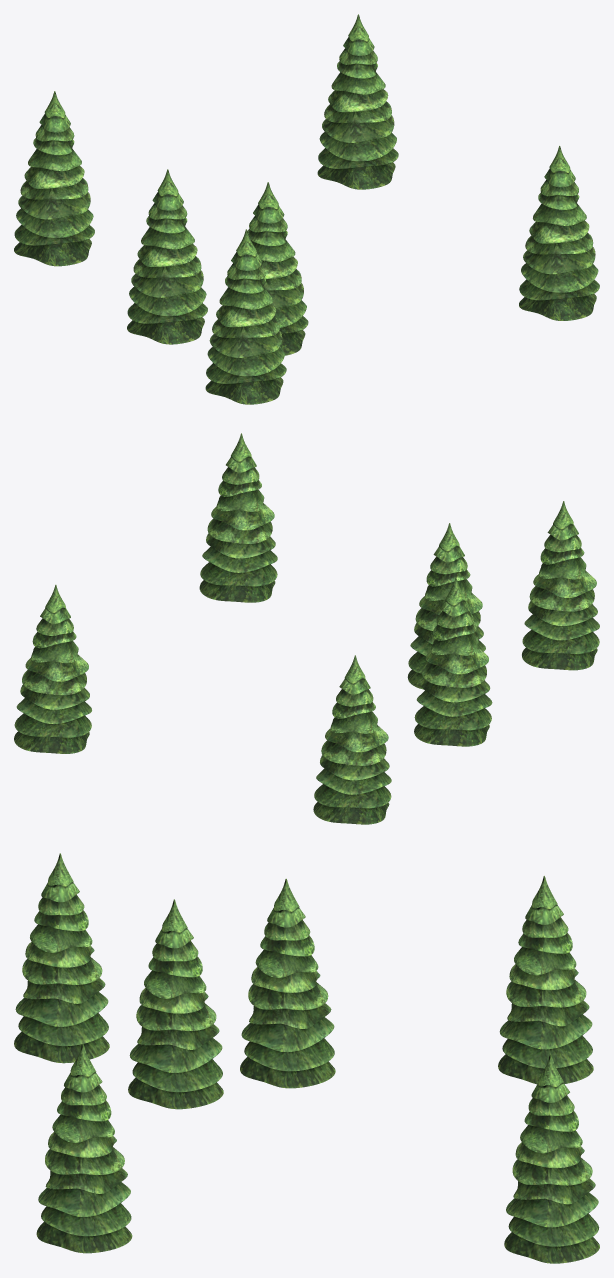
Rendered from copaciii.obj.
3 renders of one model, top to bottom at view 1: azimuth 30°, elevation 25°; view 2: azimuth 150°, elevation 25°; view 3: azimuth 270°, elevation 25°, orthographic. The views are drawn at different scales.
Visible parts, largest first — view 1: 10447_Pine_Tree_v1_SG.001_10447_Pine_Tree_v1_SG.002, 10447_Pine_Tree_v1_SG.002_10447_Pine_Tree_v1_SG.003, 10447_Pine_Tree_v1_SG.000, 10447_Pine_Tree_v1_SG.003_10447_Pine_Tree_v1_SG.005, 10447_Pine_Tree_v1_SG.005_10447_Pine_Tree_v1_SG.007, 10447_Pine_Tree_v1_SG.004_10447_Pine_Tree_v1_SG.006; view 2: 10447_Pine_Tree_v1_SG.005_10447_Pine_Tree_v1_SG.007, 10447_Pine_Tree_v1_SG.002_10447_Pine_Tree_v1_SG.003, 10447_Pine_Tree_v1_SG.003_10447_Pine_Tree_v1_SG.005, 10447_Pine_Tree_v1_SG.001_10447_Pine_Tree_v1_SG.002, 10447_Pine_Tree_v1_SG.000, 10447_Pine_Tree_v1_SG.004_10447_Pine_Tree_v1_SG.006; view 3: 10447_Pine_Tree_v1_SG.004_10447_Pine_Tree_v1_SG.006, 10447_Pine_Tree_v1_SG.002_10447_Pine_Tree_v1_SG.003, 10447_Pine_Tree_v1_SG.000, 10447_Pine_Tree_v1_SG.005_10447_Pine_Tree_v1_SG.007, 10447_Pine_Tree_v1_SG.003_10447_Pine_Tree_v1_SG.005, 10447_Pine_Tree_v1_SG.001_10447_Pine_Tree_v1_SG.002.
Boxes of the visible parts, left/top/right/bottom form: 10447_Pine_Tree_v1_SG.001_10447_Pine_Tree_v1_SG.002: left=14, top=91, right=94, bottom=266; 10447_Pine_Tree_v1_SG.002_10447_Pine_Tree_v1_SG.003: left=127, top=169, right=207, bottom=344; 10447_Pine_Tree_v1_SG.000: left=317, top=14, right=398, bottom=189; 10447_Pine_Tree_v1_SG.003_10447_Pine_Tree_v1_SG.005: left=205, top=229, right=286, bottom=404; 10447_Pine_Tree_v1_SG.005_10447_Pine_Tree_v1_SG.007: left=519, top=145, right=599, bottom=320; 10447_Pine_Tree_v1_SG.004_10447_Pine_Tree_v1_SG.006: left=247, top=182, right=308, bottom=355; 10447_Pine_Tree_v1_SG.005_10447_Pine_Tree_v1_SG.007: left=199, top=433, right=277, bottom=602; 10447_Pine_Tree_v1_SG.002_10447_Pine_Tree_v1_SG.003: left=414, top=577, right=492, bottom=746; 10447_Pine_Tree_v1_SG.003_10447_Pine_Tree_v1_SG.005: left=522, top=501, right=599, bottom=670; 10447_Pine_Tree_v1_SG.001_10447_Pine_Tree_v1_SG.002: left=313, top=655, right=391, bottom=824; 10447_Pine_Tree_v1_SG.000: left=14, top=584, right=91, bottom=753; 10447_Pine_Tree_v1_SG.004_10447_Pine_Tree_v1_SG.006: left=407, top=523, right=485, bottom=689; 10447_Pine_Tree_v1_SG.004_10447_Pine_Tree_v1_SG.006: left=128, top=899, right=223, bottom=1109; 10447_Pine_Tree_v1_SG.002_10447_Pine_Tree_v1_SG.003: left=240, top=878, right=335, bottom=1088; 10447_Pine_Tree_v1_SG.000: left=504, top=1053, right=599, bottom=1263; 10447_Pine_Tree_v1_SG.005_10447_Pine_Tree_v1_SG.007: left=36, top=1043, right=132, bottom=1253; 10447_Pine_Tree_v1_SG.003_10447_Pine_Tree_v1_SG.005: left=14, top=853, right=109, bottom=1063; 10447_Pine_Tree_v1_SG.001_10447_Pine_Tree_v1_SG.002: left=498, top=875, right=593, bottom=1084.
Bounding box in the file's own units: 12.28 × 5.41 × 13.29.
Materials: 6 (6 with a texture image).
